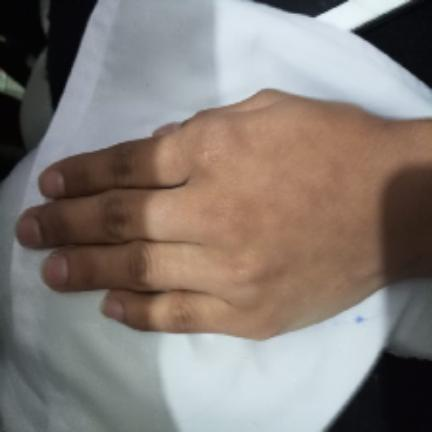Nail: (42, 256, 68, 285), (17, 216, 41, 247), (39, 170, 65, 196), (102, 296, 124, 322), (153, 123, 182, 137)
